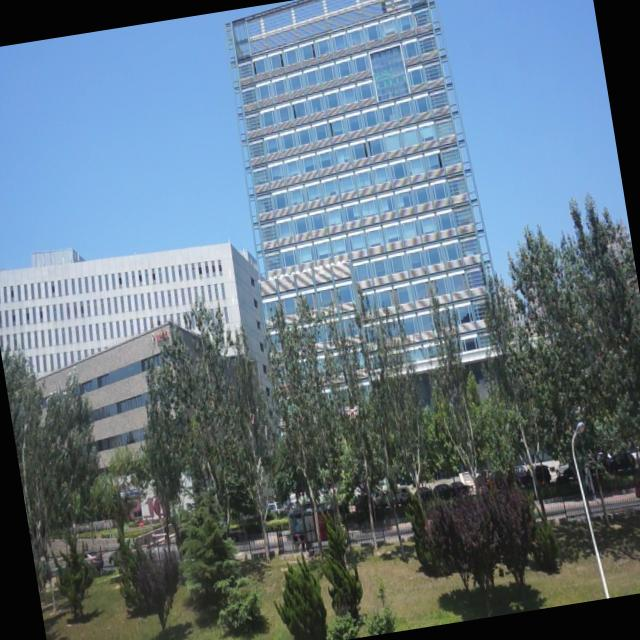drone: (343, 400, 362, 420)
